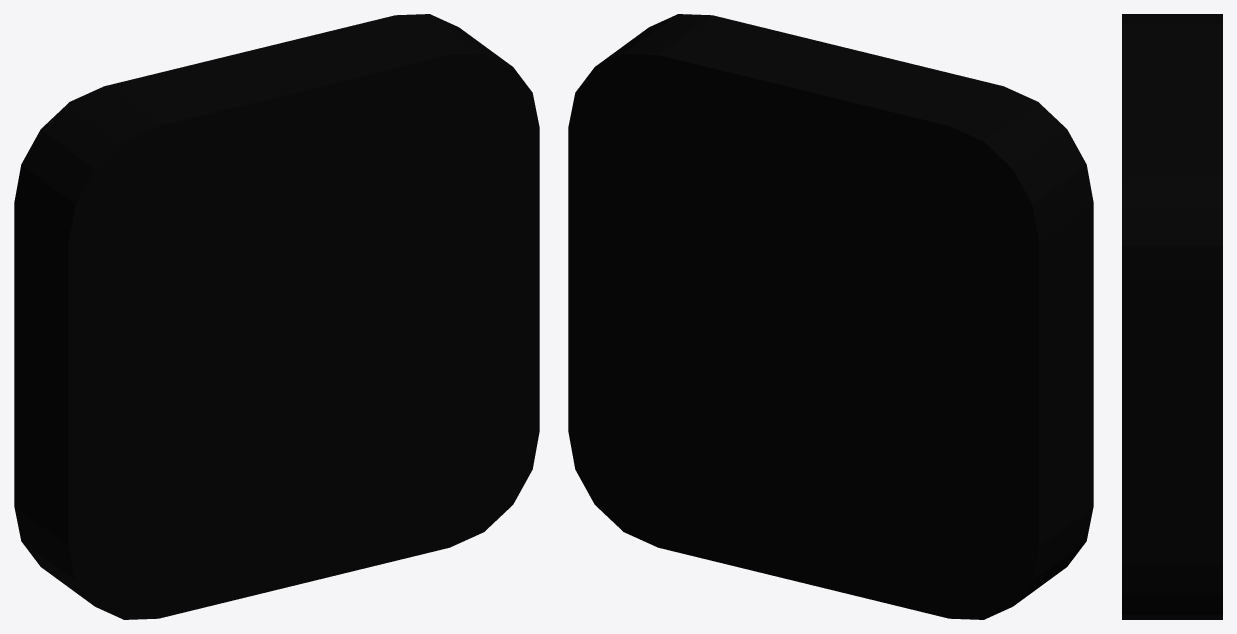
Rendered from hiper.glb.
The picture shows the model from 3 angles, left to right: view 1: azimuth 30°, elevation 25°; view 2: azimuth 150°, elevation 25°; view 3: azimuth 270°, elevation 25°; orthographic projection. The views are drawn at different scales.
Parts seen in each view (by area): view 1: hiper; view 2: hiper; view 3: hiper.
Part boxes in pixels (x1,y1,x2,y2): hiper: (14, 14, 539, 619); hiper: (568, 14, 1093, 619); hiper: (1122, 14, 1222, 619).
Size of what is drawn, in the model's own units: 0.5 by 0.5 by 0.1.
Materials: 1 (1 with a texture image).
